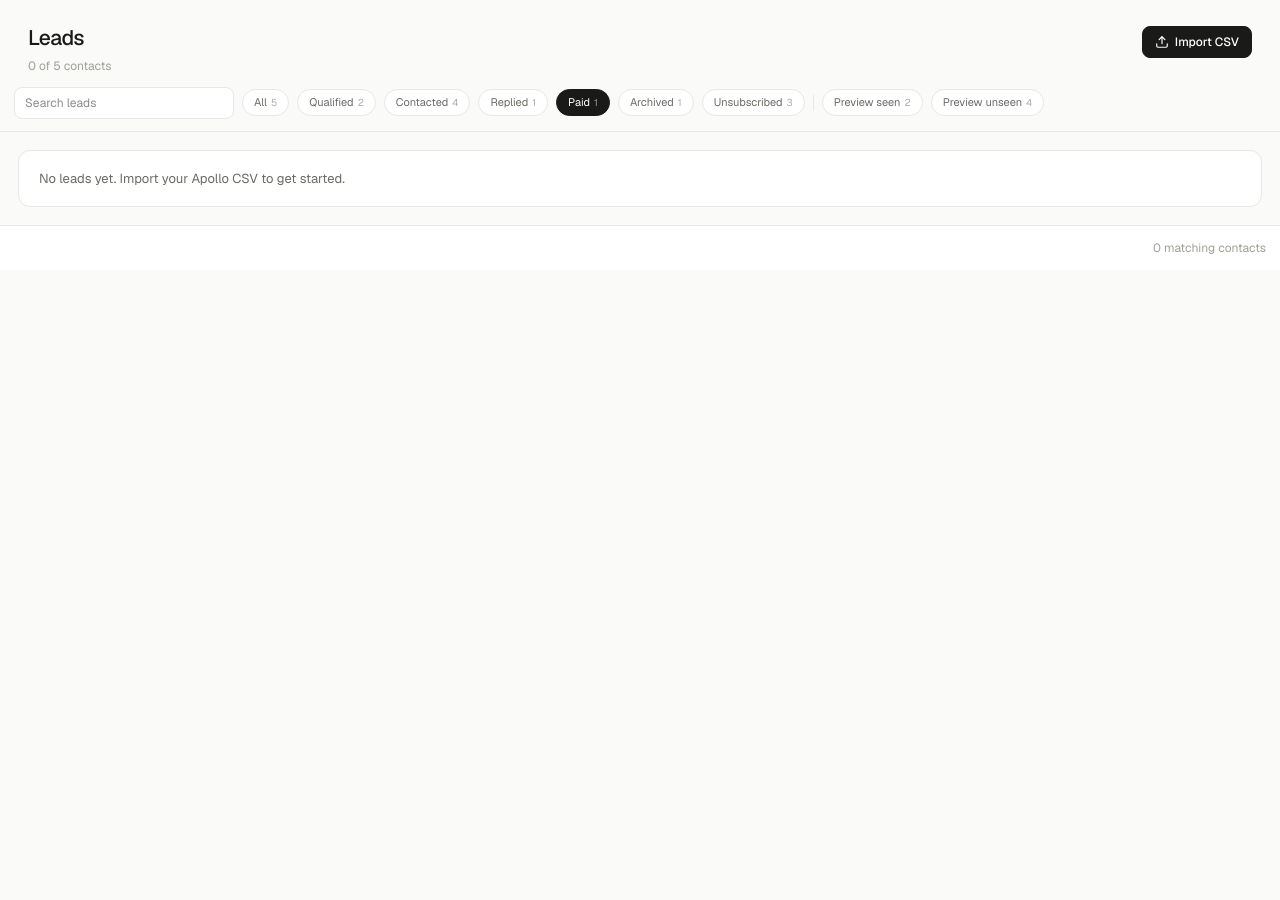
it: LeadsWorkbench › selects the first fetched row when filtering from an empty initial list
Click the button "Qualified2": (337,103) [297,89,376,116]
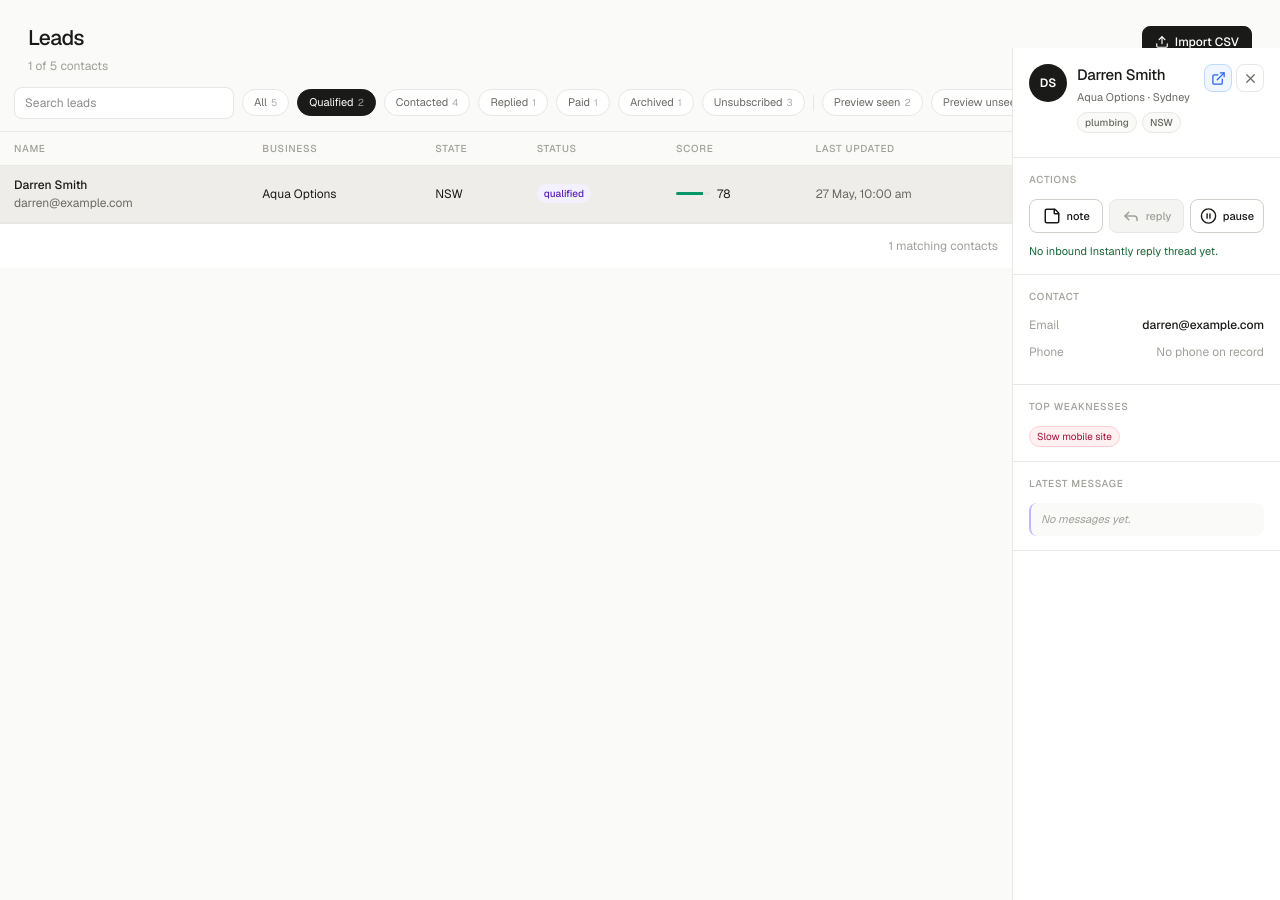
Expected: the text "Aqua Options · Sydney" is shown, [1077,88,1192,105]
